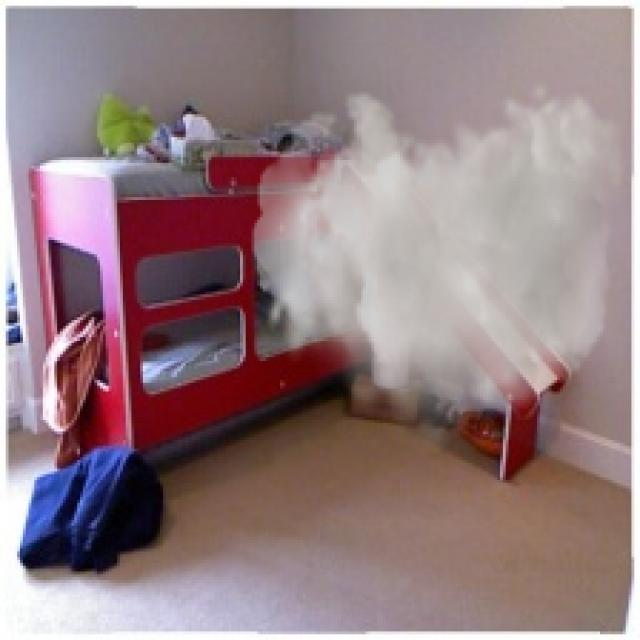smoke: (251, 77, 626, 460)
